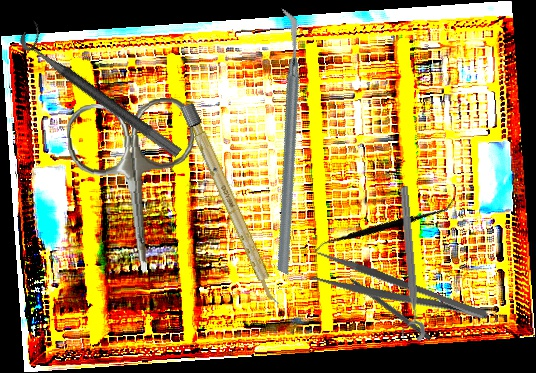Chopper: (177, 8, 392, 275)
Dressing Forceps: (306, 247, 492, 340)
Fixation Ring: (16, 20, 192, 159), (386, 185, 427, 343)
Hook Surgical: (338, 267, 433, 342)
Iris Scissors: (64, 95, 206, 279)
Scalpel Handle: (179, 101, 283, 309)
Spatula Surgical: (312, 151, 456, 300)
